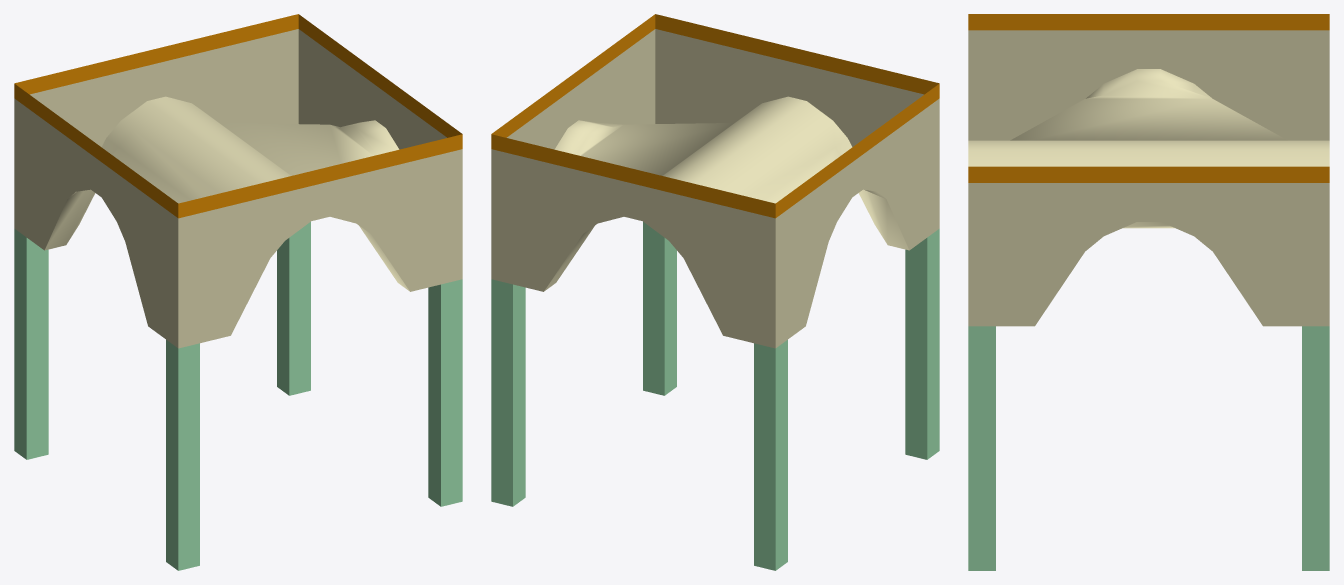
The model's file is base_tower.FBX.
3 views of the same model, side by side, from view 1: azimuth 30°, elevation 25°; view 2: azimuth 150°, elevation 25°; view 3: azimuth 270°, elevation 25° (orthographic). The views are drawn at different scales.
Visible parts, largest first — view 1: base_tower; view 2: base_tower; view 3: base_tower.
Boxes of the visible parts, x1,y1,x2,y2 form: base_tower: (14, 14, 462, 570); base_tower: (491, 14, 939, 570); base_tower: (968, 14, 1329, 570).
Bounding box in the file's own units: 1000 × 1235 × 1000.
